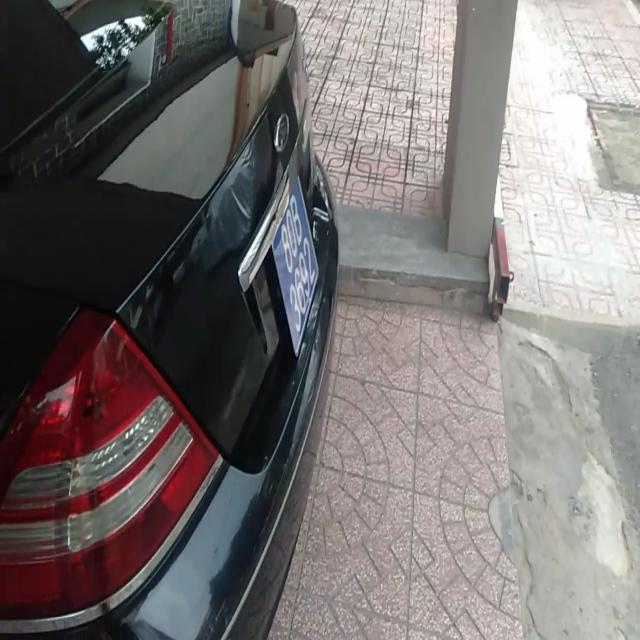bien_xanh: (252, 191, 321, 339)
